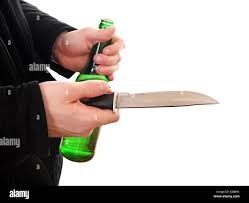knife: (80, 90, 221, 112)
